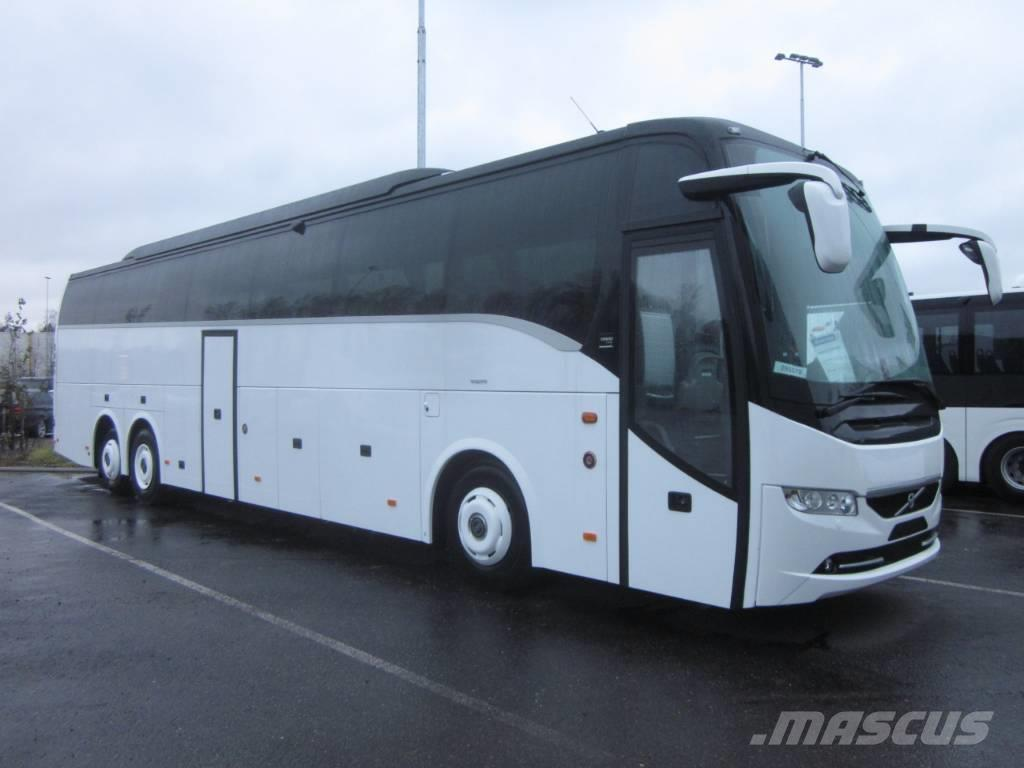bus: (54, 115, 945, 613)
